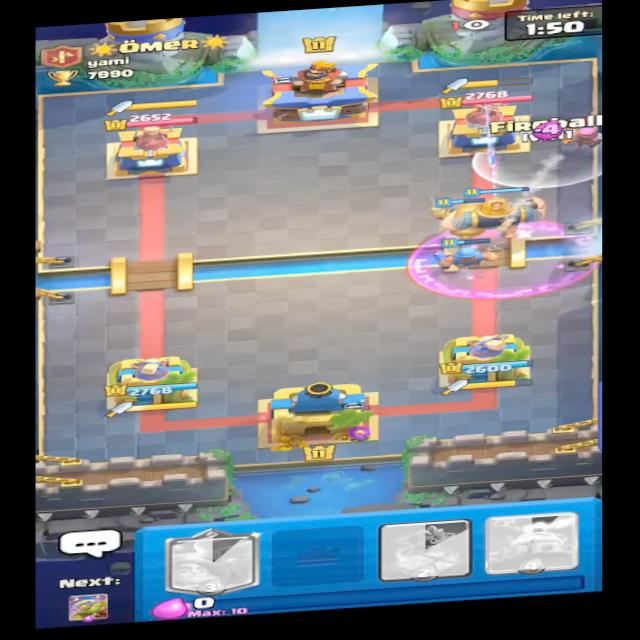firecracker: (546, 112, 604, 157)
rage: (404, 215, 589, 306)
